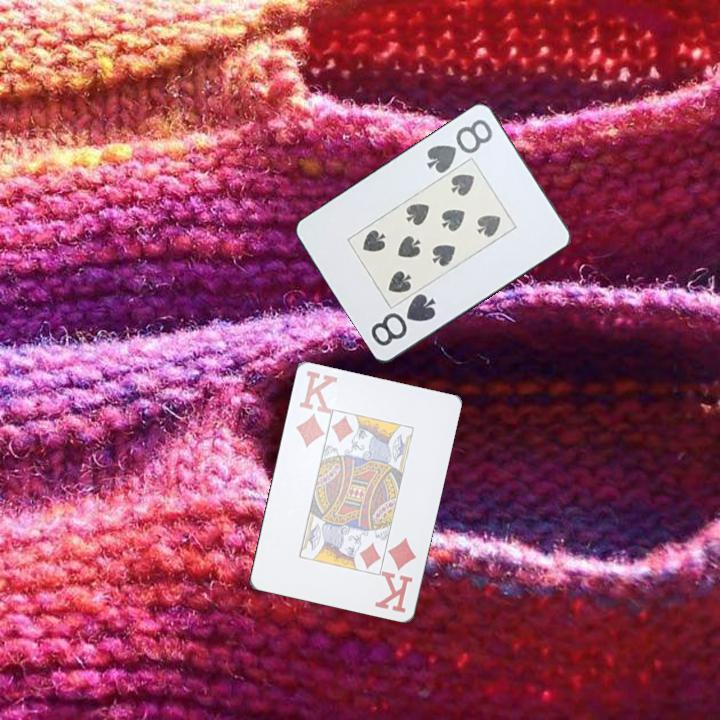8s: (423, 116, 496, 177), (367, 291, 439, 350)
Kd: (291, 367, 338, 450), (373, 533, 419, 615)
